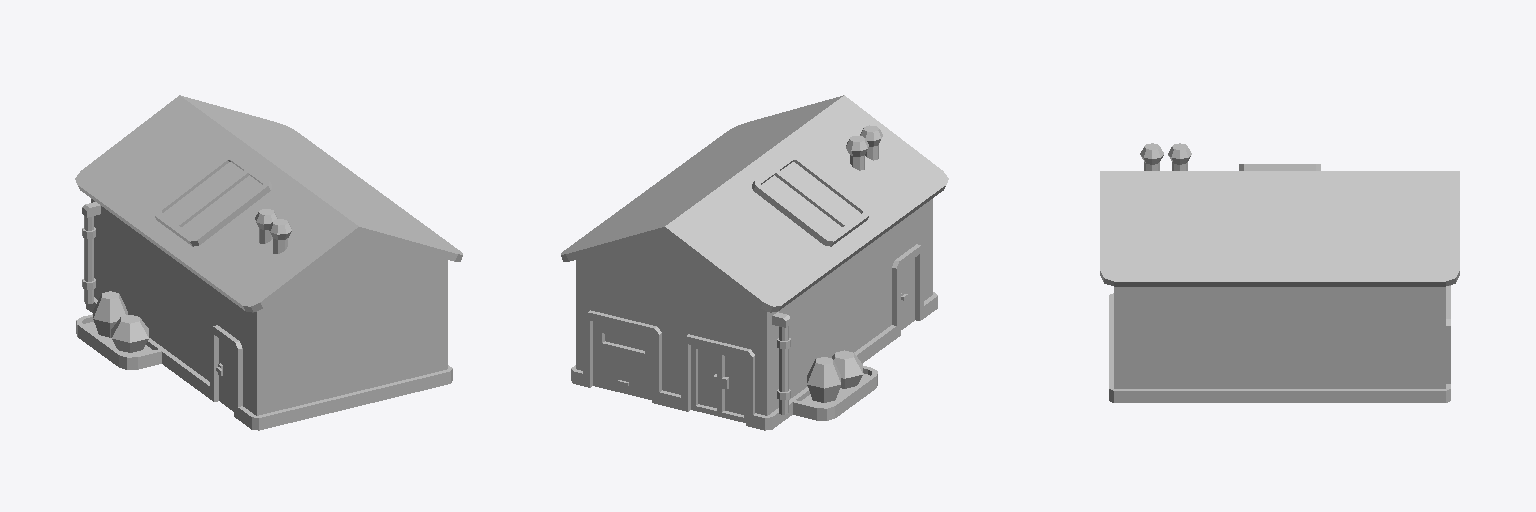
The model's file is industrial_building-i.obj.
The picture shows the model from 3 angles: view 1: azimuth 30°, elevation 25°; view 2: azimuth 150°, elevation 25°; view 3: azimuth 270°, elevation 25°; orthographic projection.
Visible parts, largest first — view 1: building-i; view 2: building-i; view 3: building-i.
Boxes of the visible parts, <box> form: building-i: <box>75,95,462,430</box>; building-i: <box>561,95,948,430</box>; building-i: <box>1100,143,1459,402</box>.
Size of the model in its own units: 1.03 by 0.7335 by 1.3.